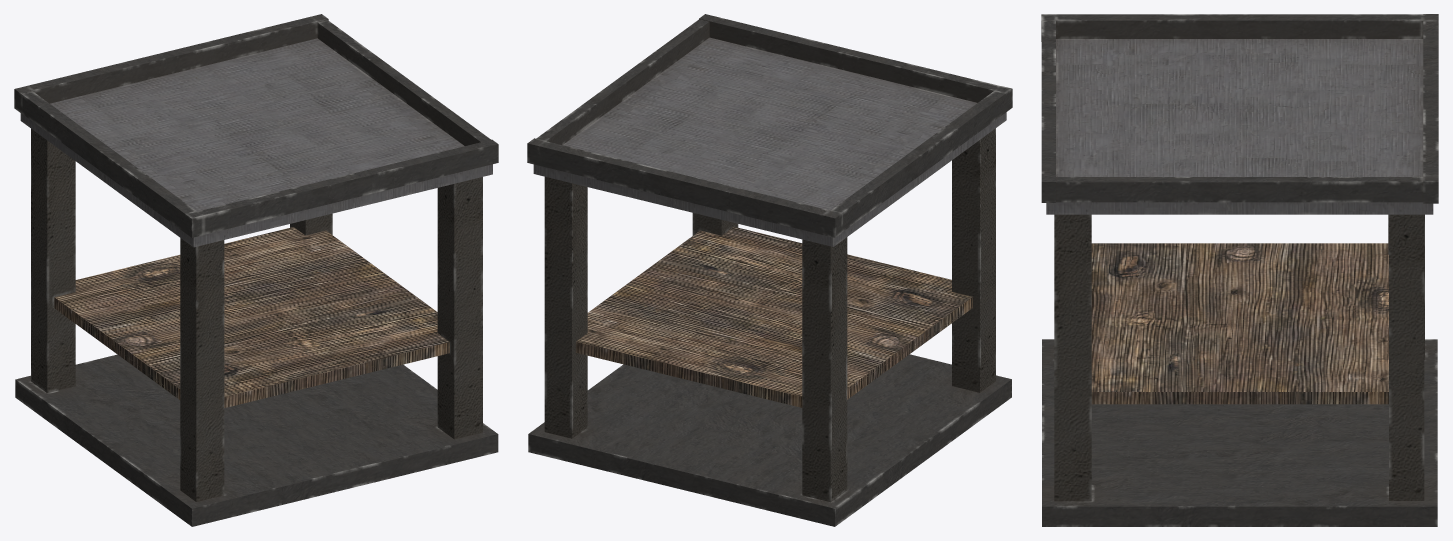
File: feDepot_HD.fbx
The picture shows the model from 3 angles, left to right: view 1: azimuth 30°, elevation 25°; view 2: azimuth 150°, elevation 25°; view 3: azimuth 270°, elevation 25°; orthographic projection. The views are drawn at different scales.
Visible parts, largest first — view 1: feDepot_Base; view 2: feDepot_Base; view 3: feDepot_Base.
Part boxes in pixels (x1,y1,x2,y2): feDepot_Base: [14, 14, 498, 526]; feDepot_Base: [527, 14, 1012, 526]; feDepot_Base: [1041, 14, 1438, 526].
Bounding box in the file's own units: 0.9048 × 0.868 × 0.9042.
Materials: 1 (1 with a texture image).
